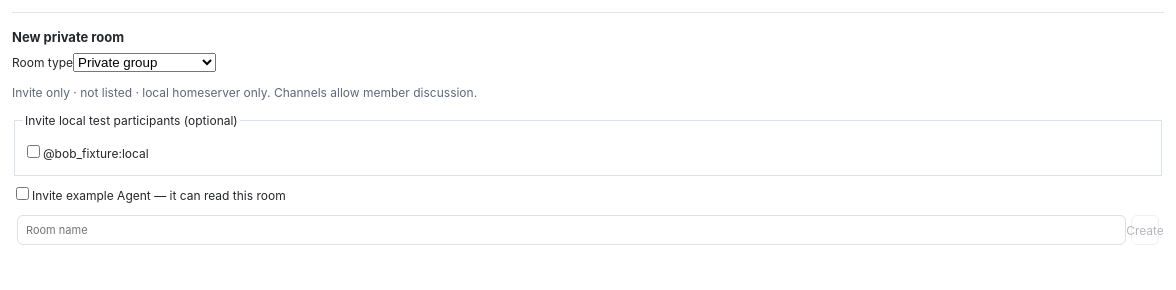
Test: acknowledges a created room even when its independent direct label is pending
This screenshot has width=1176, height=290.
Type "Created direct" into the field named "New local room name" at (572, 230), box [17,215,1126,245]
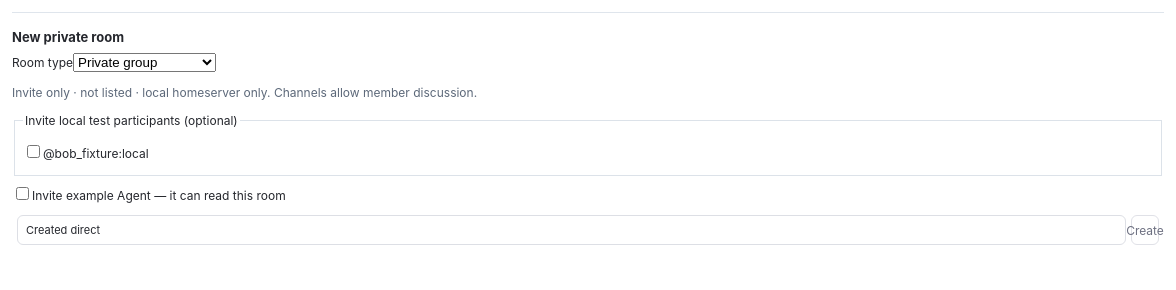
Click the button with aria-label "Create local room" at (1145, 230), box [1131,215,1159,245]
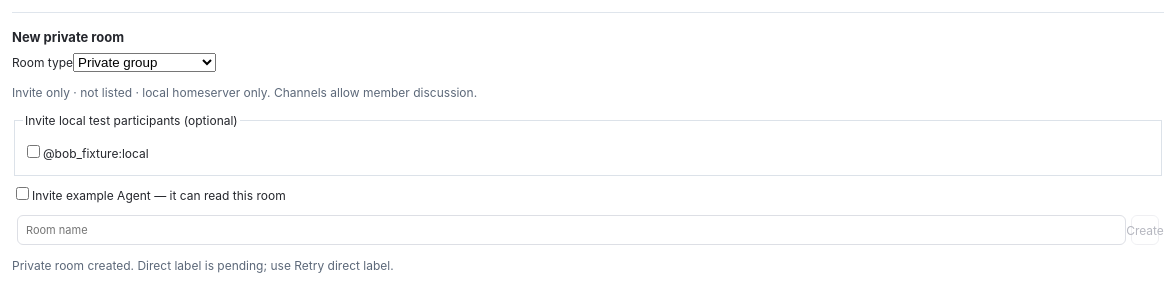
Result: the text "Private room created. Direct label is pending; use Retry direct label." is shown at [12,258,394,273]
Result: the field named "New local room name" is empty at [17,215,1126,245]
